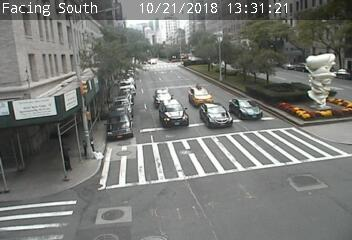car: (159, 100, 188, 127), (200, 103, 231, 128), (229, 98, 262, 120), (188, 86, 213, 107), (154, 89, 173, 108)
